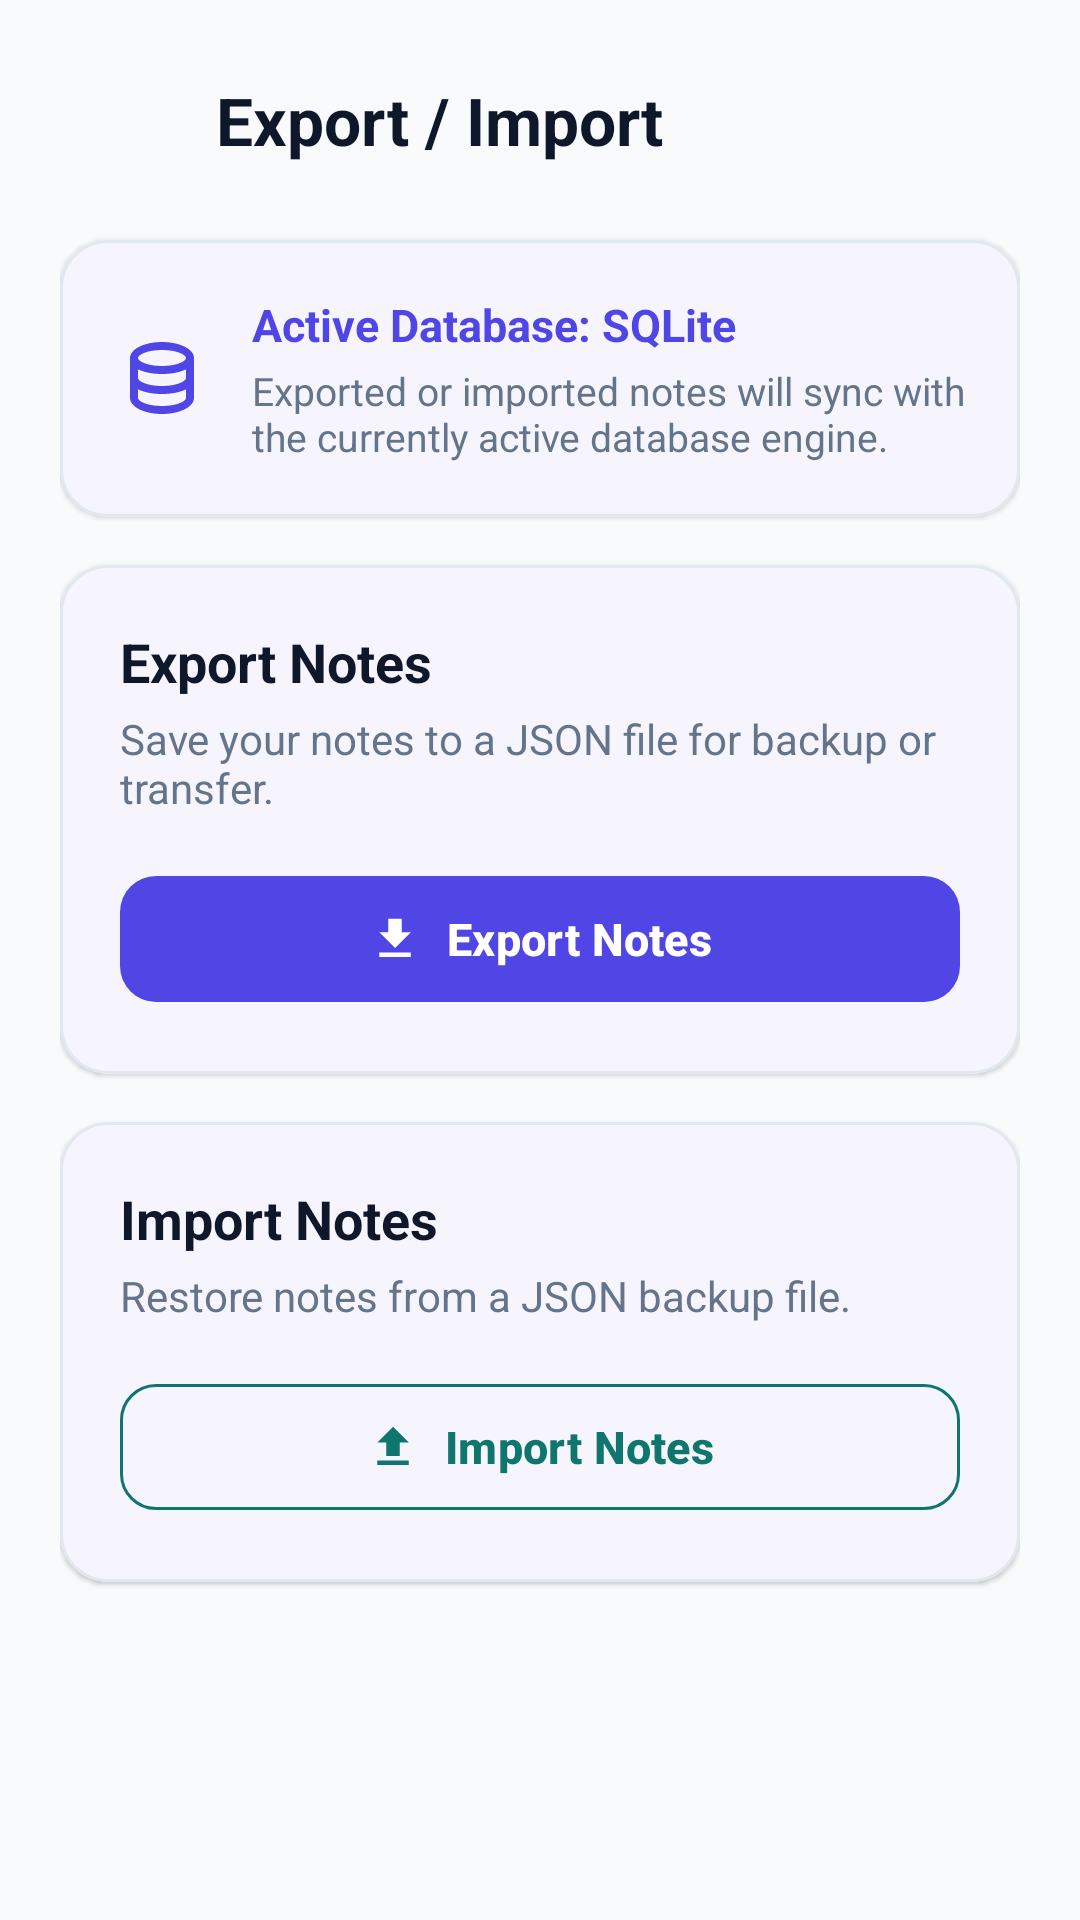

Icons on this 1080x1920 Android screen, each with the point to tap as (x,y):
Database Storage: (162,378)
